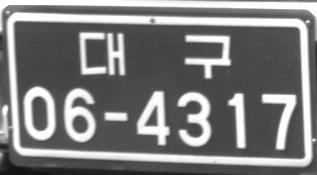0: (22, 85, 56, 141)
1: (221, 93, 254, 148)
3: (176, 90, 211, 147)
4: (135, 89, 169, 146)
6: (63, 86, 96, 143)
7: (260, 93, 299, 149)
대구_D: (78, 31, 231, 79)
